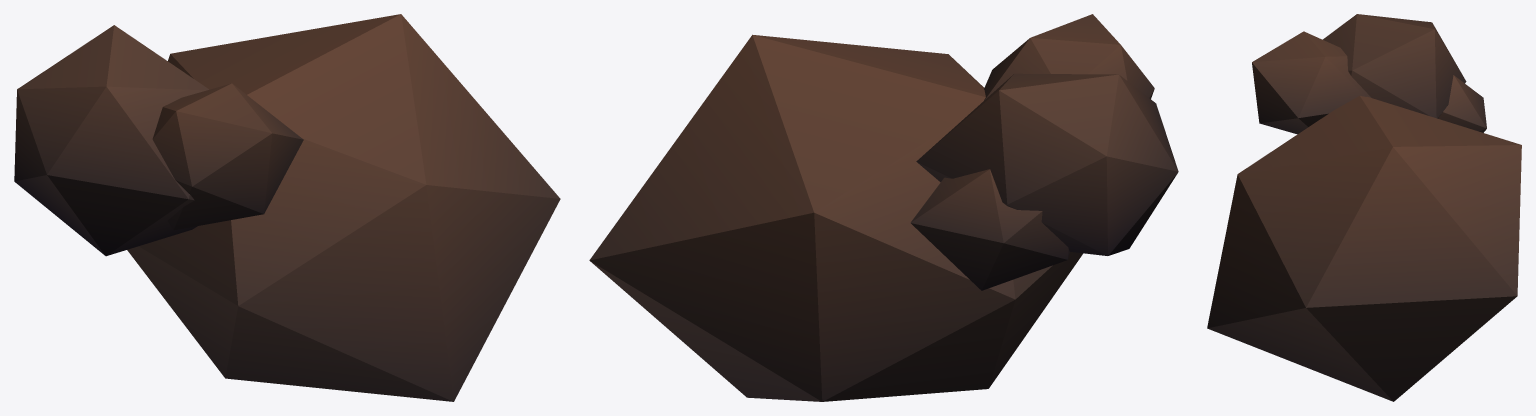
The model's file is boulders.lod2.glb.
The picture shows the model from 3 angles, left to right: view 1: azimuth 30°, elevation 25°; view 2: azimuth 150°, elevation 25°; view 3: azimuth 270°, elevation 25°; orthographic projection. The views are drawn at different scales.
Parts seen in each view (by area): view 1: boulders_s1_lod2; view 2: boulders_s1_lod2; view 3: boulders_s1_lod2.
Boxes of the visible parts, x1,y1,x2,y2 form: boulders_s1_lod2: (14,14,560,401); boulders_s1_lod2: (589,14,1178,401); boulders_s1_lod2: (1207,14,1521,401).
Bounding box in the file's own units: 1.72 × 1.28 × 1.32.
